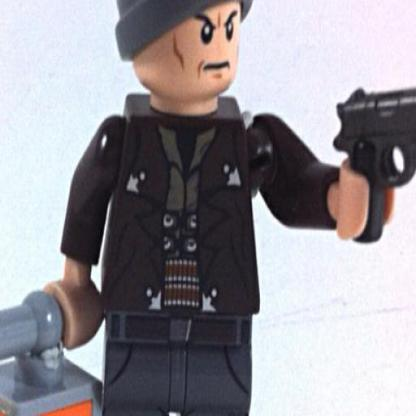gun: (333, 73, 415, 246)
